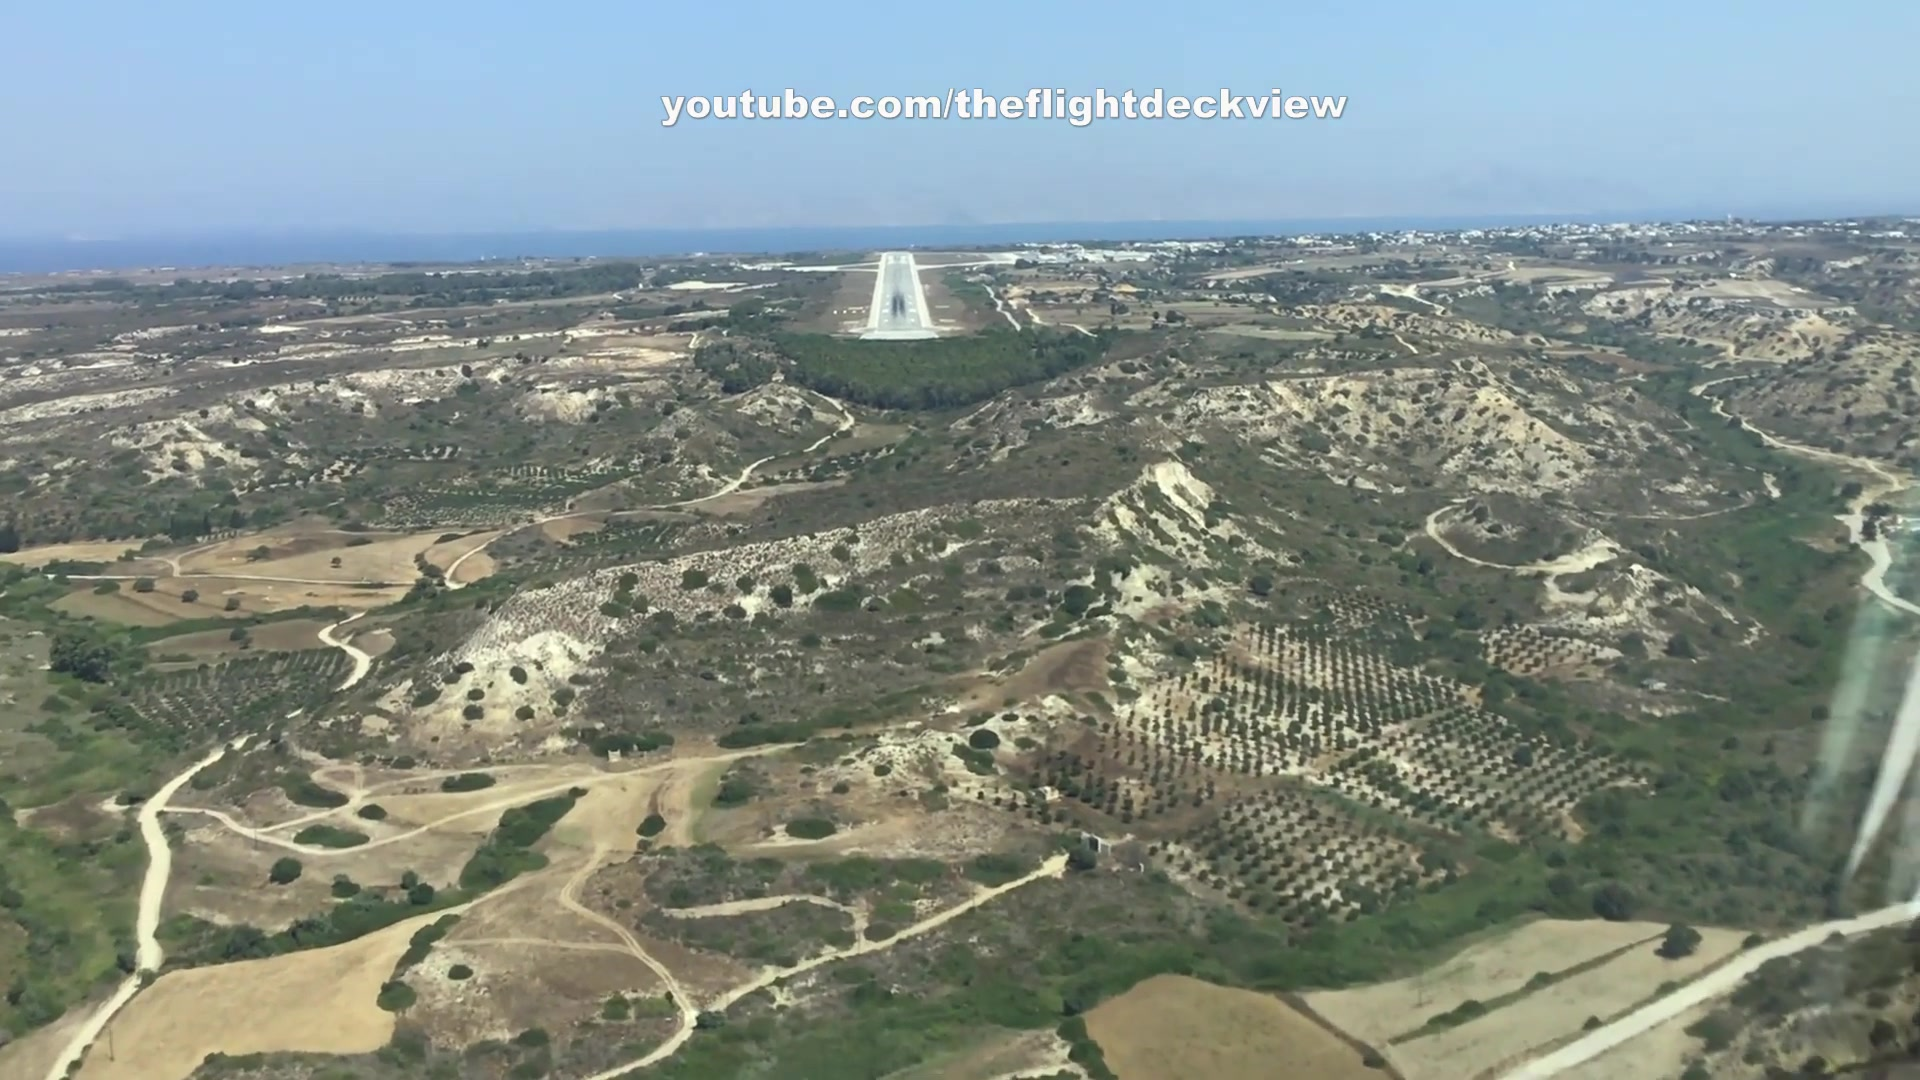runway: (868, 252, 932, 338)
